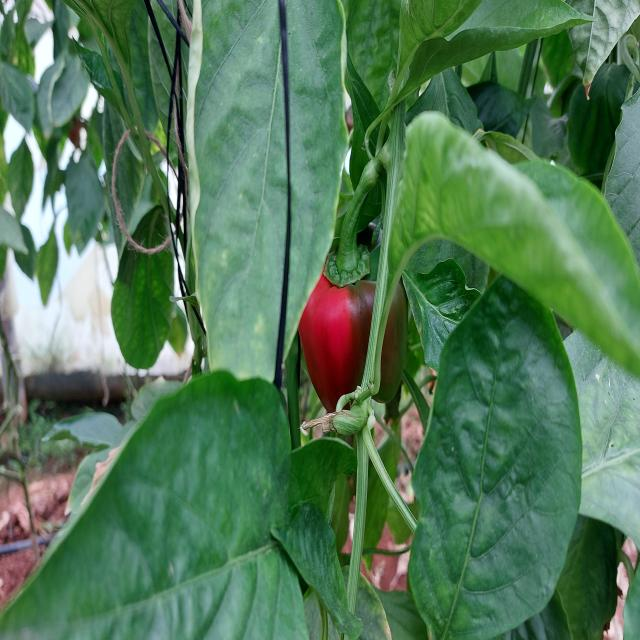Red-Ready-to-Harvest: (314, 253, 414, 413)
